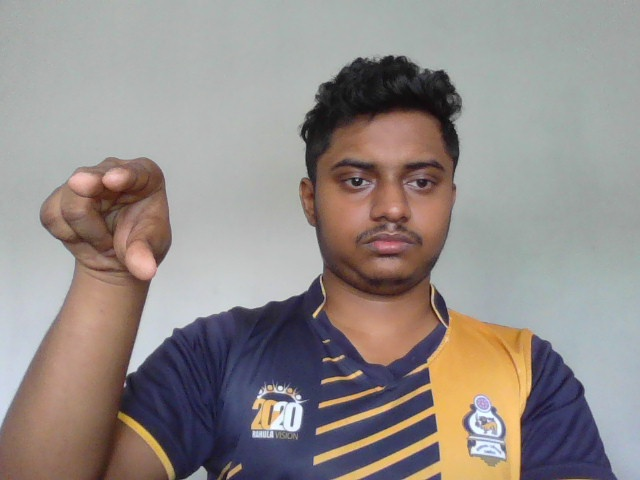No: (37, 146, 192, 296)
